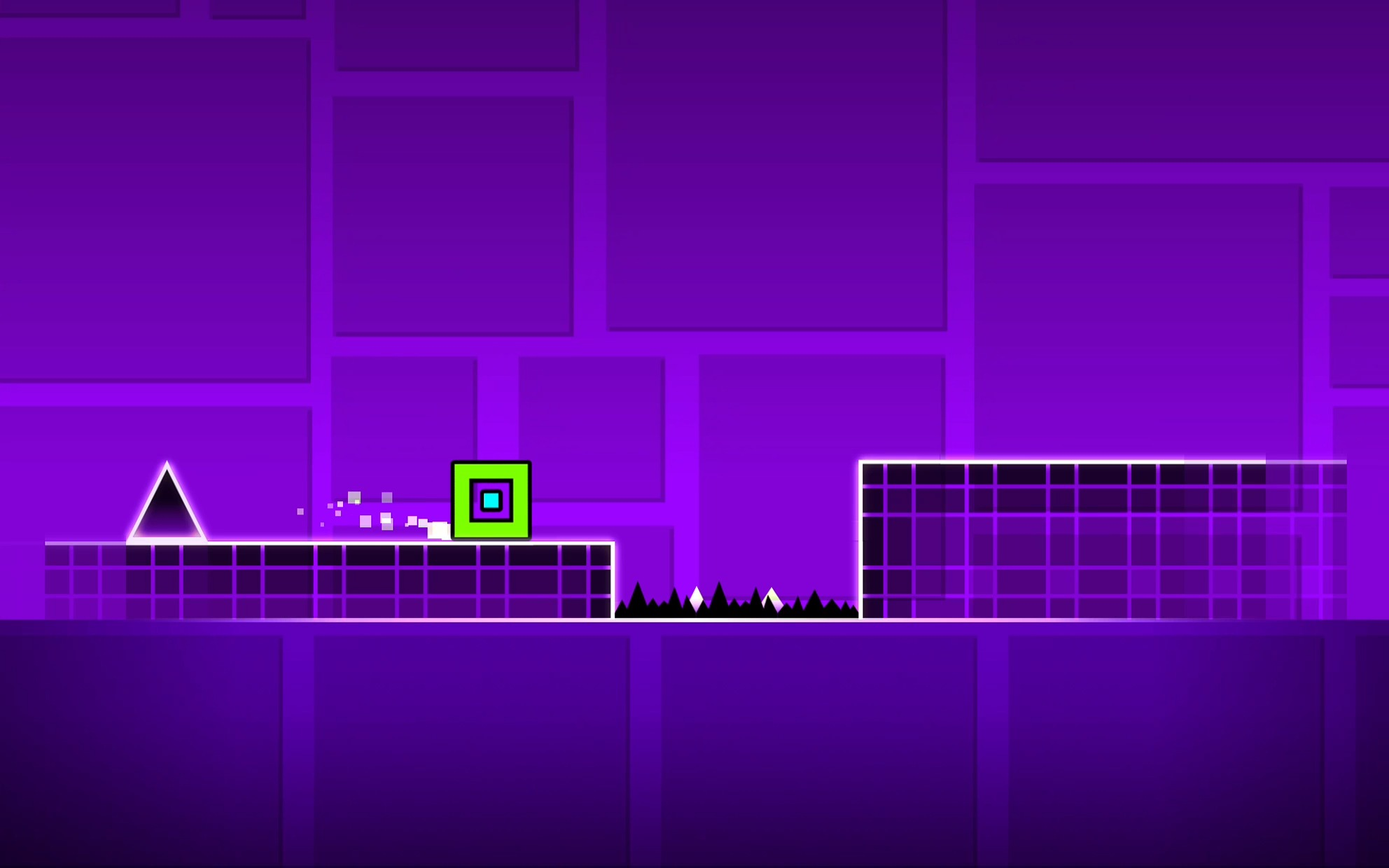Block2: (853, 460, 1366, 618), (25, 542, 614, 618)
Player: (451, 459, 531, 538)
Spike: (127, 463, 205, 539)
Spike3: (615, 582, 858, 622)
